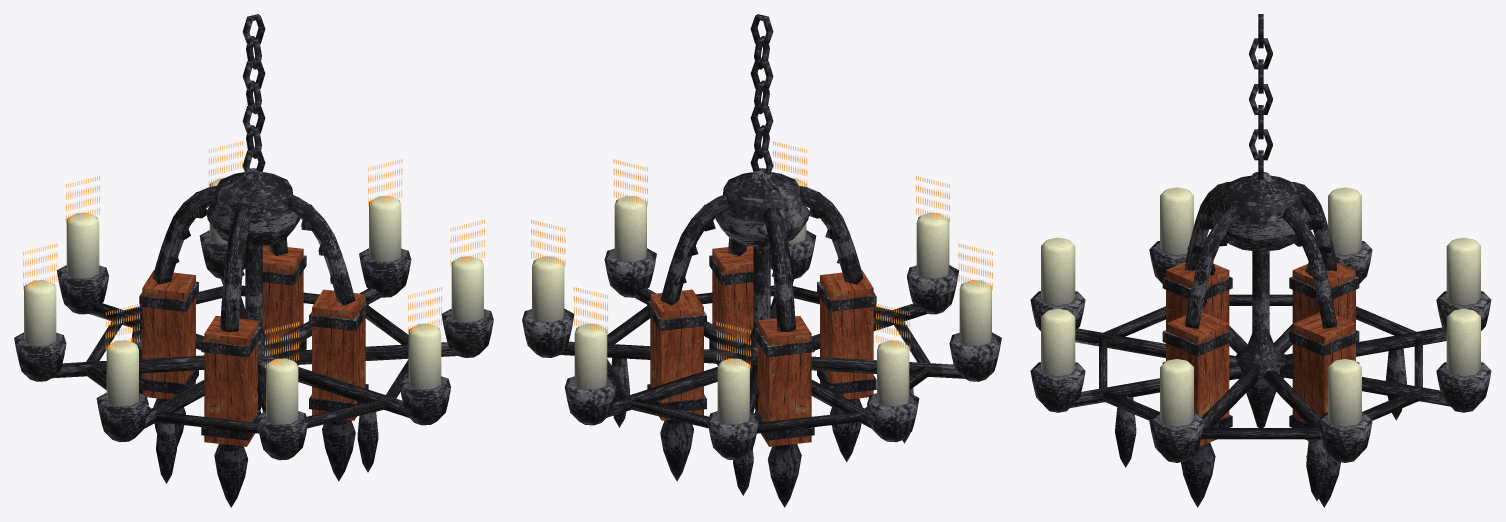
Rendered from mm8_deco_chandelier2.glb.
3 views of the same model, side by side, from view 1: azimuth 30°, elevation 25°; view 2: azimuth 150°, elevation 25°; view 3: azimuth 270°, elevation 25° (orthographic).
Parts seen in each view (by area): view 1: Chandelier; view 2: Chandelier; view 3: Chandelier.
Boxes of the visible parts, x1,y1,x2,y2 form: Chandelier: (14,14,493,507); Chandelier: (522,14,1001,507); Chandelier: (1030,14,1491,507).
Bounding box in the file's own units: 1.39 × 1.54 × 1.39.
Materials: 11 (11 with a texture image).
